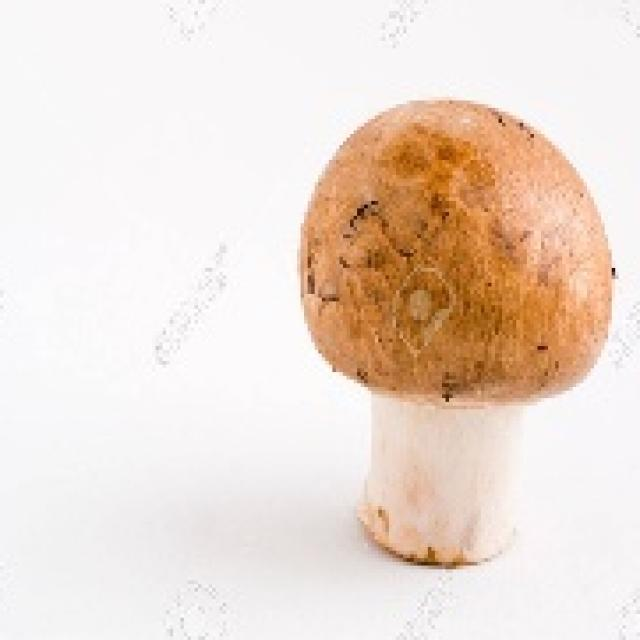mushroom: (297, 101, 619, 584)
